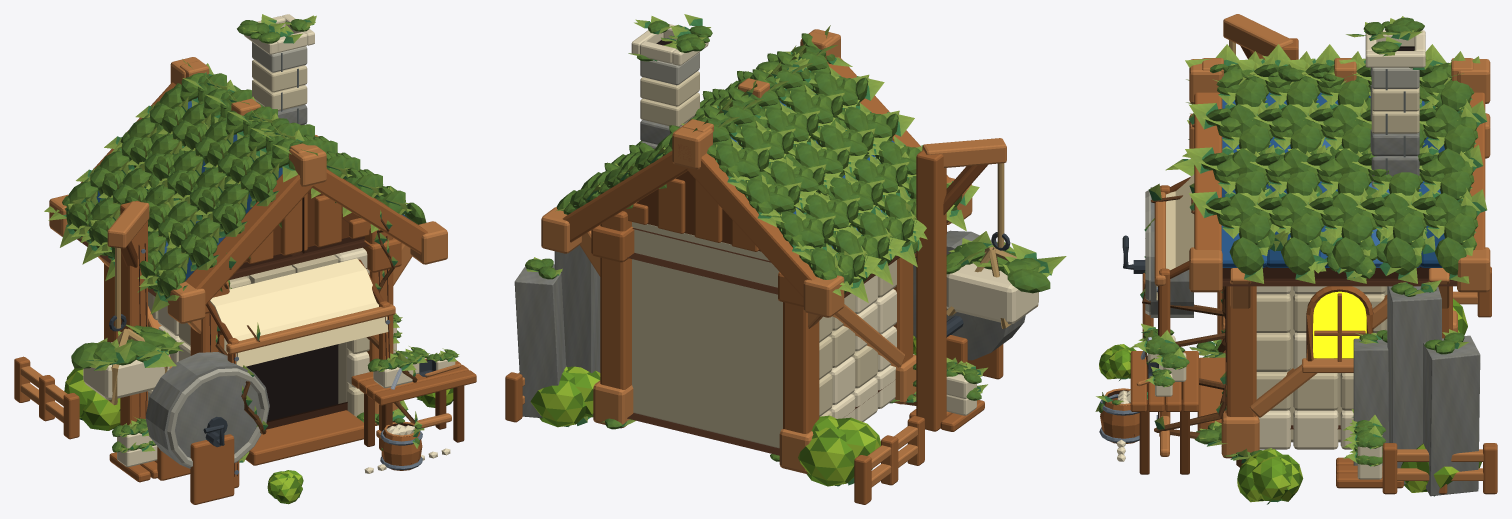
File: stone_cutter.glb
3 views of the same model, side by side, from view 1: azimuth 30°, elevation 25°; view 2: azimuth 150°, elevation 25°; view 3: azimuth 270°, elevation 25° (orthographic). The views are drawn at different scales.
Visible parts, largest first — view 1: Linen work canopy, Circular grindstone, Workshop shadow opening, Carved roof verge, Workshop recessed floor, Carved roof verge.002, Hoist upright, Grindstone trestle, Dressed limestone.004, Grinding wheel rim, Awning front beam, Gable tie beam (+31 smaller); view 2: Cottage walls, Hoist upright, Woodland standing dressed block.002, Corner upright.003, Woodland standing dressed block.001, Corner upright.001, Carved roof verge.001, Dressed limestone.004, Carved roof verge.003, Circular grindstone, Leaf cluster.007, Leaf cluster.011 (+36 smaller); view 3: Woodland standing dressed block.002, Woodland standing dressed block.001, Corner upright.002, Woodland standing dressed block, Carved roof verge.002, Warm arched window, Roof eave.001, Linen work canopy, Side limestone block.003, Hoist jib, Circular grindstone, Side wall diagonal.001 (+82 smaller).
Part boxes in pixels (x1,y1,x2,y2): Linen work canopy: (210,258,388,366); Circular grindstone: (145,352,269,468); Workshop shadow opening: (246,344,338,421); Carved roof verge: (185,174,313,305); Workshop recessed floor: (245,410,363,465); Carved roof verge.002: (312,169,427,254); Hoist upright: (120,200,147,425); Grindstone trestle: (190,434,234,504); Dressed limestone.004: (83,342,169,399); Grinding wheel rim: (167,368,268,466); Awning front beam: (226,304,395,354); Gable tie beam: (229,236,369,279); Cottage walls: (632,222,782,448); Hoist upright: (916,150,946,431); Woodland standing dressed block.002: (514,264,566,418); Corner upright.003: (600,211,631,389); Woodland standing dressed block.001: (554,245,600,373); Corner upright.001: (783,302,819,433); Carved roof verge.001: (686,153,817,297); Dressed limestone.004: (946,263,1038,324); Carved roof verge.003: (562,151,687,242); Circular grindstone: (913,230,1025,360); Leaf cluster.007: (798,427,855,486); Leaf cluster.011: (530,372,586,427); Woodland standing dressed block.002: (1423,335,1480,496); Woodland standing dressed block.001: (1387,286,1441,484); Corner upright.002: (1226,286,1256,416); Woodland standing dressed block: (1353,338,1388,465); Carved roof verge.002: (1194,92,1222,250); Warm arched window: (1313,291,1366,358); Roof eave.001: (1222,266,1456,286); Linen work canopy: (1156,174,1194,300); Side limestone block.003: (1293,410,1338,449); Hoist jib: (1223,14,1293,56); Circular grindstone: (1150,187,1193,317); Side wall diagonal.001: (1249,294,1387,417).
Size of the model in its own units: 4.83 by 4.2 by 3.68.
Materials: 34 (8 with a texture image).
